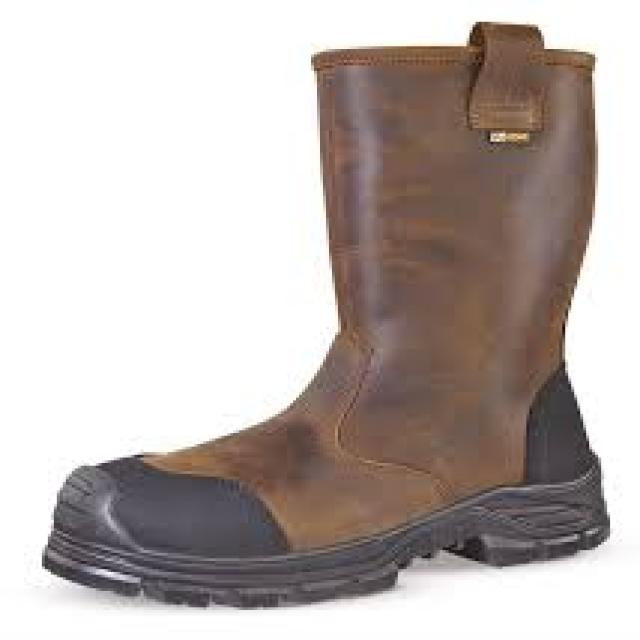shoes: (44, 23, 608, 606)
